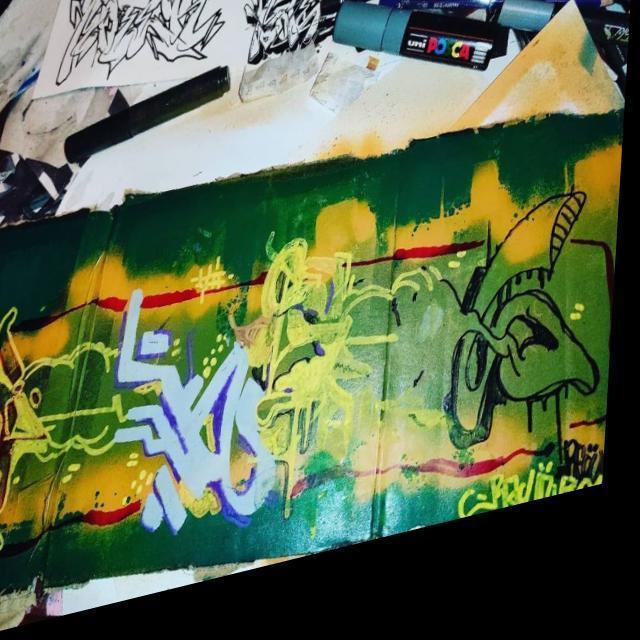nonspitting: (0, 142, 619, 536), (49, 0, 223, 80), (241, 0, 337, 66)
